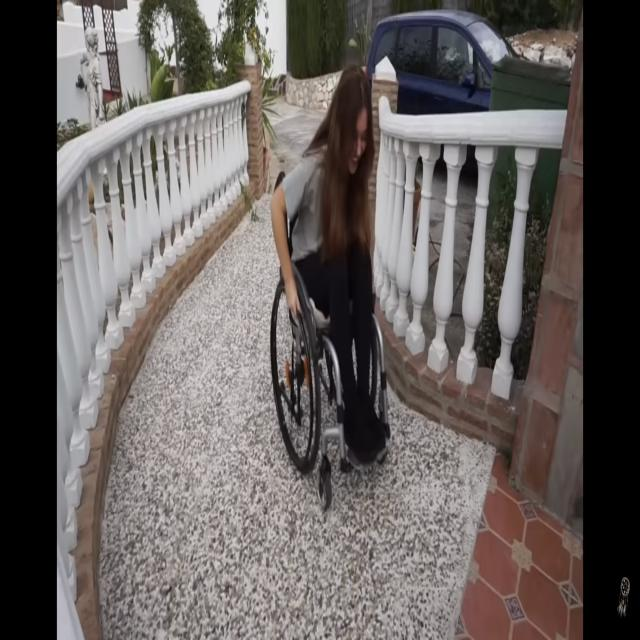wheelchairs: (267, 165, 391, 518)
